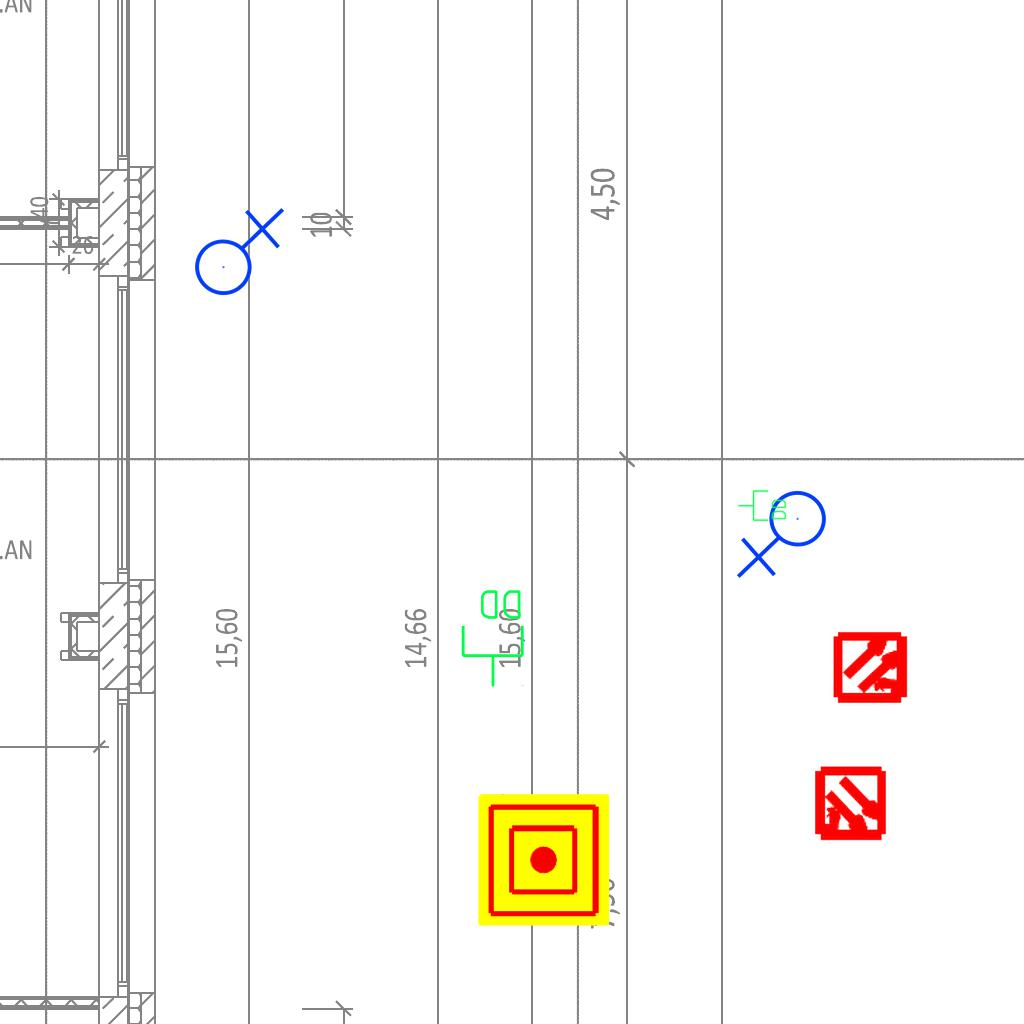Datenanschluss_zweifach: (459, 586, 528, 689), (737, 489, 788, 523)
Elektroanschluss_allgemein_230V_Geraeteanschlussdose_230V: (186, 203, 285, 297), (736, 489, 835, 583)
NAM-Nichtautomatischer_Melder: (478, 794, 610, 926)
OT_Multisensormelder_(Kombination_RMO_WMD): (816, 611, 929, 724), (794, 749, 907, 862)
